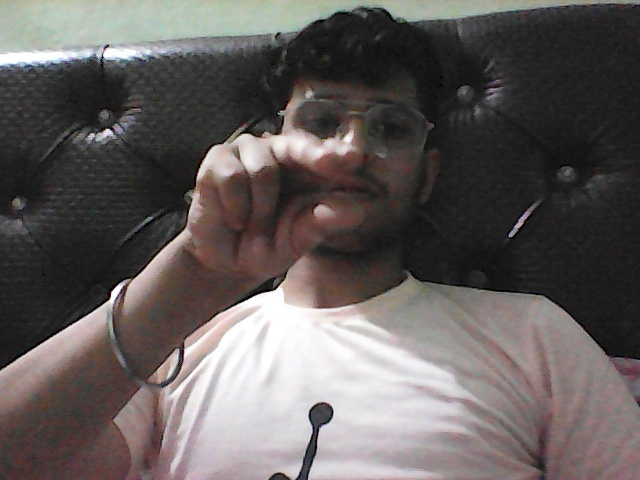no: (164, 116, 399, 293)
